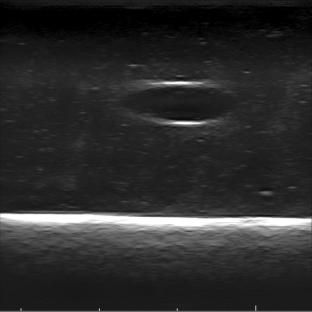vessel: (120, 81, 236, 126)
